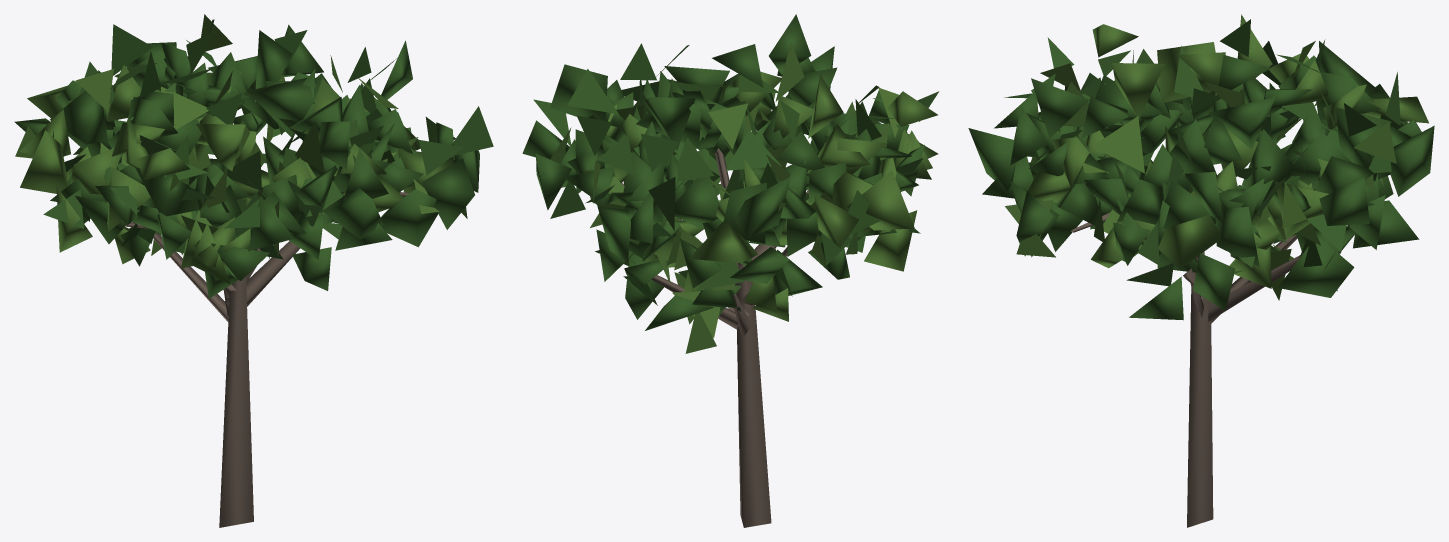
Rendered from city_neem_5_far.glb.
3 views of the same model, side by side, from view 1: azimuth 30°, elevation 25°; view 2: azimuth 150°, elevation 25°; view 3: azimuth 270°, elevation 25° (orthographic). The views are drawn at different scales.
Parts seen in each view (by area): view 1: Branch; view 2: Branch; view 3: Branch.
Boxes of the visible parts, x1,y1,x2,y2 form: Branch: (14, 14, 493, 527); Branch: (522, 14, 939, 527); Branch: (968, 14, 1434, 527).
Bounding box in the file's own units: 8.88 × 9.17 × 8.18.
